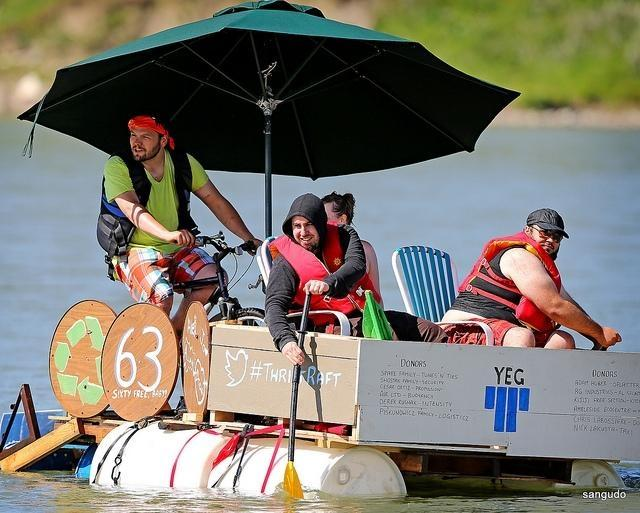bicycle: (177, 232, 268, 328)
